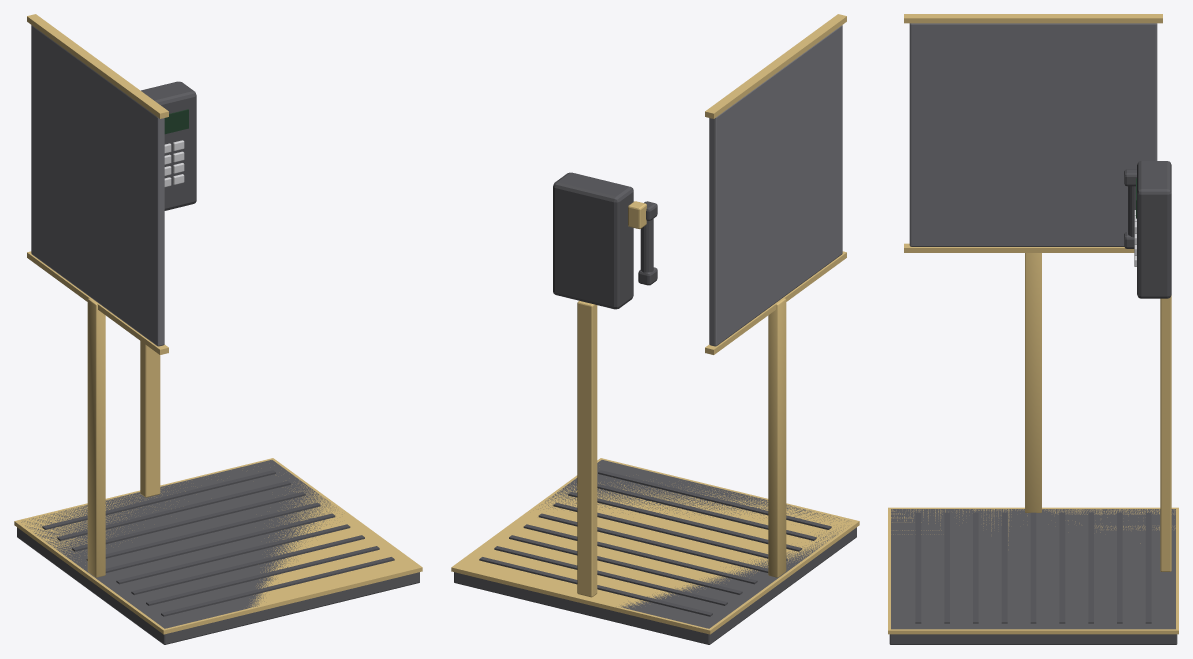
Rendered from phone_booth_car.glb.
3 views of the same model, side by side, from view 1: azimuth 30°, elevation 25°; view 2: azimuth 150°, elevation 25°; view 3: azimuth 270°, elevation 25° (orthographic). The views are drawn at different scales.
Visible parts, largest first — view 1: MapFrame, CarFloor, CarFloorTrim, MapPost, PhoneBody, PhonePost, MapFrameTrim, Tread-1, Tread-3, Tread-2, Tread-4, Tread0 (+5 smaller); view 2: MapFrame, CarFloorTrim, CarFloor, PhoneBody, PhonePost, MapPost, MapFrameTrim, Tread-4, Tread1, Tread3, Tread4, Tread2 (+6 smaller); view 3: MapFrame, CarFloor, PhoneBody, MapPost, CarFloorTrim, PhonePost, MapFrameTrim, MapFrameTrimLow, Tread1, Tread4, Tread-1, Tread-4 (+5 smaller).
Part boxes in pixels (x1=…): MapFrame: x1=31, y1=25, x2=164, y2=346; CarFloor: x1=17, y1=460, x2=419, y2=644; CarFloorTrim: x1=14, y1=458, x2=422, y2=634; MapPost: x1=87, y1=298, x2=105, y2=577; PhoneBody: x1=141, y1=81, x2=196, y2=210; PhonePost: x1=140, y1=341, x2=160, y2=497; MapFrameTrim: x1=27, y1=14, x2=168, y2=118; Tread-1: x1=116, y1=524, x2=350, y2=584; Tread-3: x1=146, y1=546, x2=379, y2=605; Tread-2: x1=131, y1=535, x2=364, y2=594; Tread-4: x1=161, y1=557, x2=394, y2=616; Tread0: x1=105, y1=513, x2=335, y2=572; MapFrame: x1=709, y1=25, x2=842, y2=346; CarFloorTrim: x1=451, y1=458, x2=859, y2=634; CarFloor: x1=454, y1=460, x2=856, y2=644; PhoneBody: x1=553, y1=172, x2=633, y2=309; PhonePost: x1=577, y1=301, x2=597, y2=597; MapPost: x1=768, y1=298, x2=786, y2=577; MapFrameTrim: x1=705, y1=14, x2=846, y2=118; Tread-4: x1=598, y1=470, x2=831, y2=529; Tread1: x1=523, y1=524, x2=757, y2=584; Tread3: x1=494, y1=546, x2=727, y2=605; Tread4: x1=479, y1=557, x2=712, y2=616; Tread2: x1=509, y1=535, x2=742, y2=594; MapFrame: x1=909, y1=23, x2=1157, y2=246; CarFloor: x1=889, y1=509, x2=1177, y2=644; PhoneBody: x1=1137, y1=161, x2=1171, y2=298; MapPost: x1=1025, y1=253, x2=1041, y2=512; CarFloorTrim: x1=888, y1=507, x2=1178, y2=634; PhonePost: x1=1160, y1=295, x2=1171, y2=571; MapFrameTrim: x1=904, y1=14, x2=1162, y2=23; MapFrameTrimLow: x1=904, y1=243, x2=1134, y2=252; Tread1: x1=1059, y1=512, x2=1065, y2=623; Tread4: x1=1145, y1=512, x2=1151, y2=623; Tread-1: x1=1001, y1=512, x2=1007, y2=623; Tread-4: x1=915, y1=512, x2=921, y2=623.
Size of the model in its own units: 1.01 by 1.96 by 1.01.
